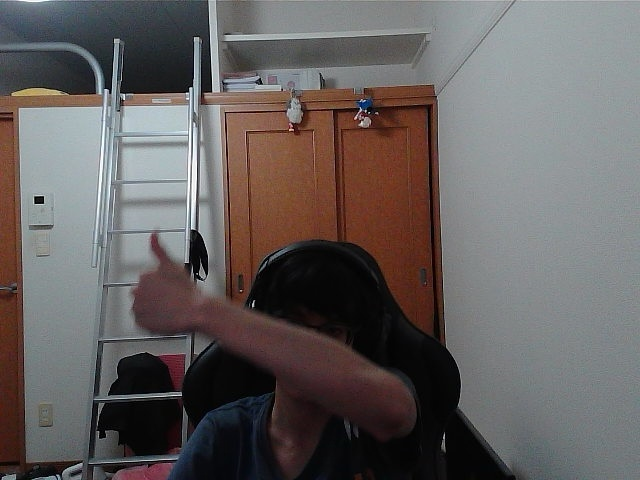thumb_up: (137, 238, 192, 324)
